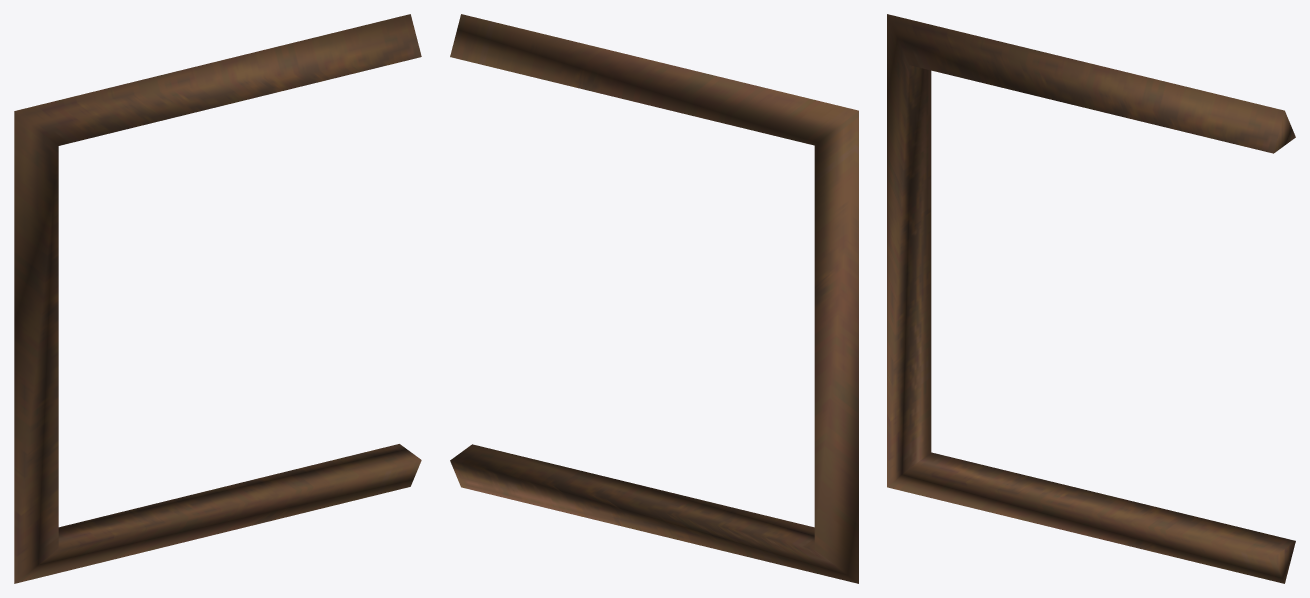
Rendered from INST_SWORDLIGHT_BRKT.fbx.
3 renders of one model, left to right at view 1: azimuth 30°, elevation 25°; view 2: azimuth 150°, elevation 25°; view 3: azimuth 330°, elevation 25°, orthographic.
Parts seen in each view (by area): view 1: INST_SWORDLIGHT_BRKT; view 2: INST_SWORDLIGHT_BRKT; view 3: INST_SWORDLIGHT_BRKT.
Part boxes in pixels (x1,y1,x2,y2): INST_SWORDLIGHT_BRKT: [14, 14, 421, 583]; INST_SWORDLIGHT_BRKT: [450, 14, 858, 583]; INST_SWORDLIGHT_BRKT: [887, 14, 1295, 583].
Bounding box in the file's own units: 15463 × 17599 × 1529.
Materials: 1 (1 with a texture image).
